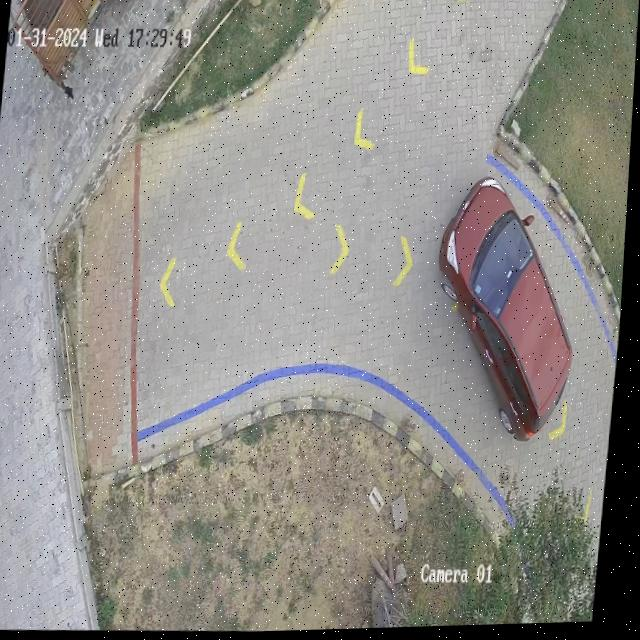car: (441, 181, 576, 444)
